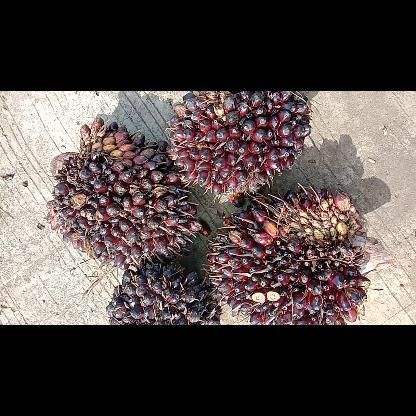TBS mentah: (43, 113, 203, 271), (203, 186, 373, 324), (164, 91, 314, 207), (104, 258, 224, 324)
